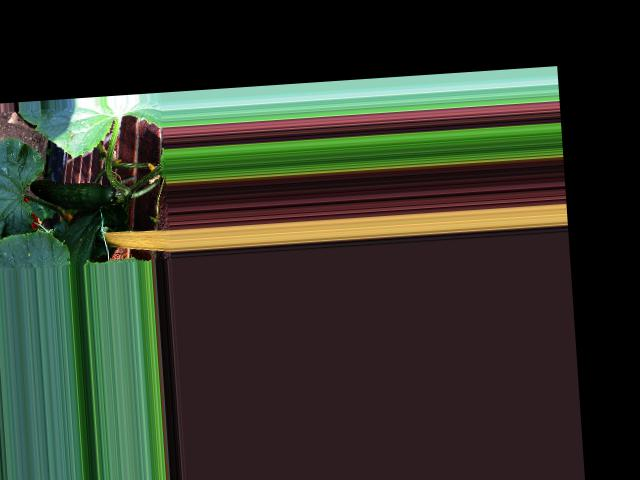cucumber: (29, 173, 117, 213)
